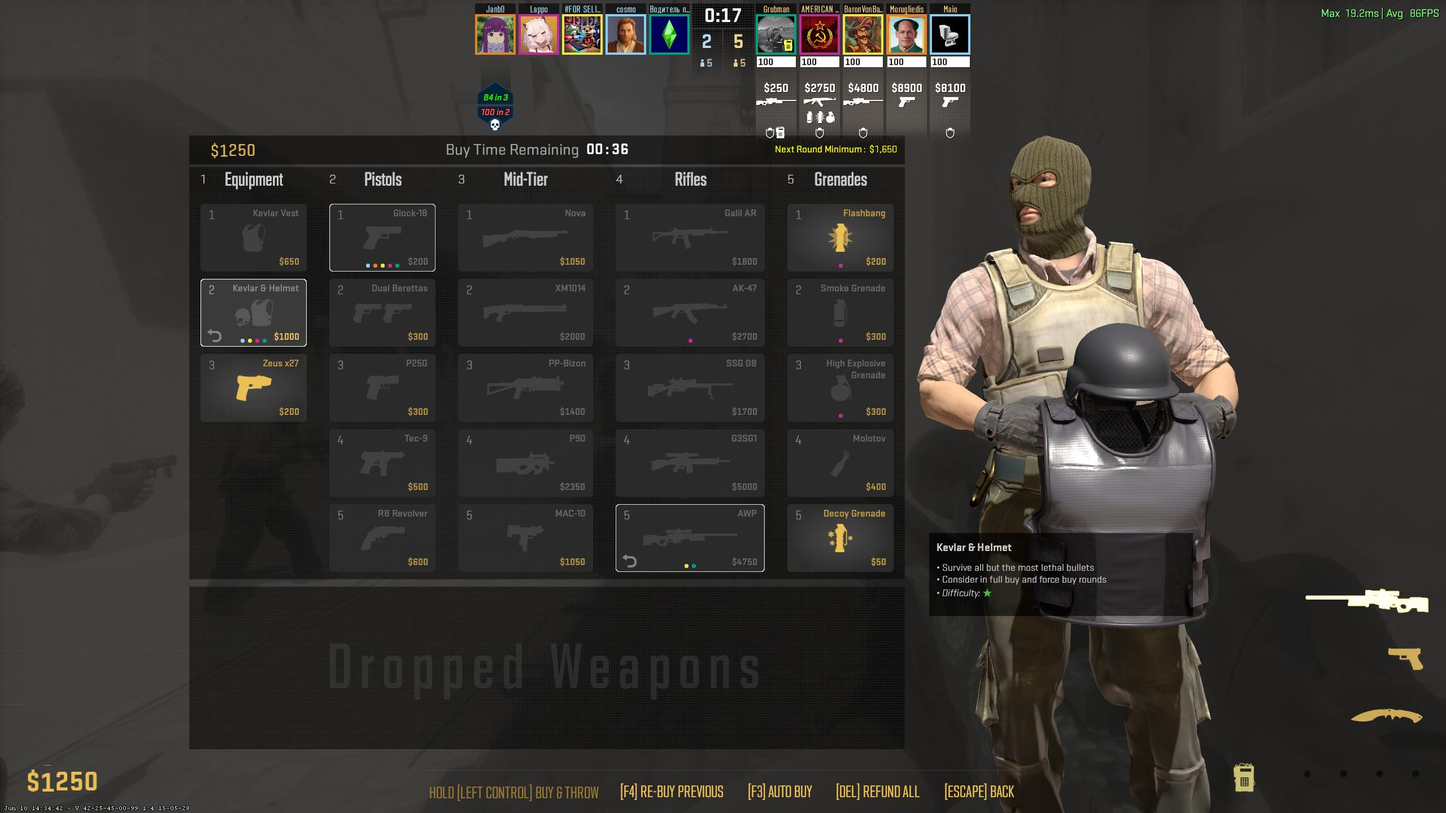Terrorist: (946, 137, 1240, 800)
